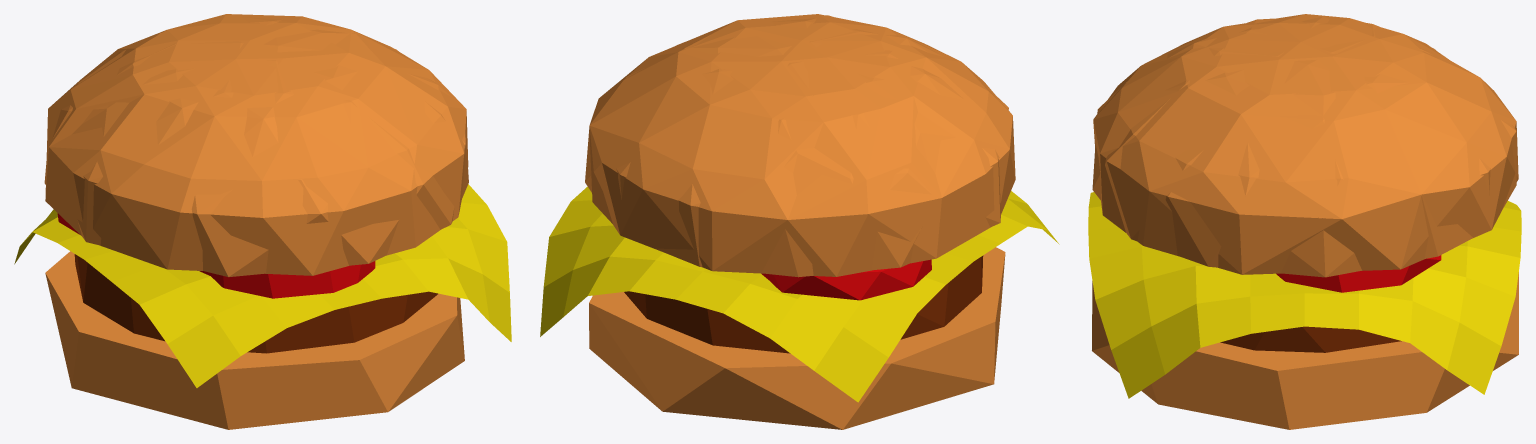
Rendered from burger.fbx.
The picture shows the model from 3 angles, left to right: view 1: azimuth 30°, elevation 25°; view 2: azimuth 150°, elevation 25°; view 3: azimuth 270°, elevation 25°; orthographic projection.
Visible parts, largest first — view 1: TopBun, BUtBun, Plane, Petty, Tomato 1; view 2: TopBun, BUtBun, Plane, Petty, Tomato3; view 3: TopBun, Plane, BUtBun, Petty, Tomato 2.
Boxes of the visible parts, <box> form: TopBun: <box>44,14,468,277</box>; BUtBun: <box>45,251,464,429</box>; Plane: <box>14,184,511,387</box>; Petty: <box>74,254,437,353</box>; Tomato 1: <box>199,261,375,298</box>; TopBun: <box>585,14,1015,277</box>; BUtBun: <box>589,247,1005,429</box>; Plane: <box>540,186,1059,402</box>; Petty: <box>624,255,983,353</box>; Tomato3: <box>761,259,931,300</box>; TopBun: <box>1092,14,1518,277</box>; Plane: <box>1088,192,1521,398</box>; BUtBun: <box>1092,272,1518,429</box>; Petty: <box>1220,326,1401,352</box>; Tomato 2: <box>1276,255,1441,292</box>.
Size of the model in its own units: 216 by 151 by 207.
